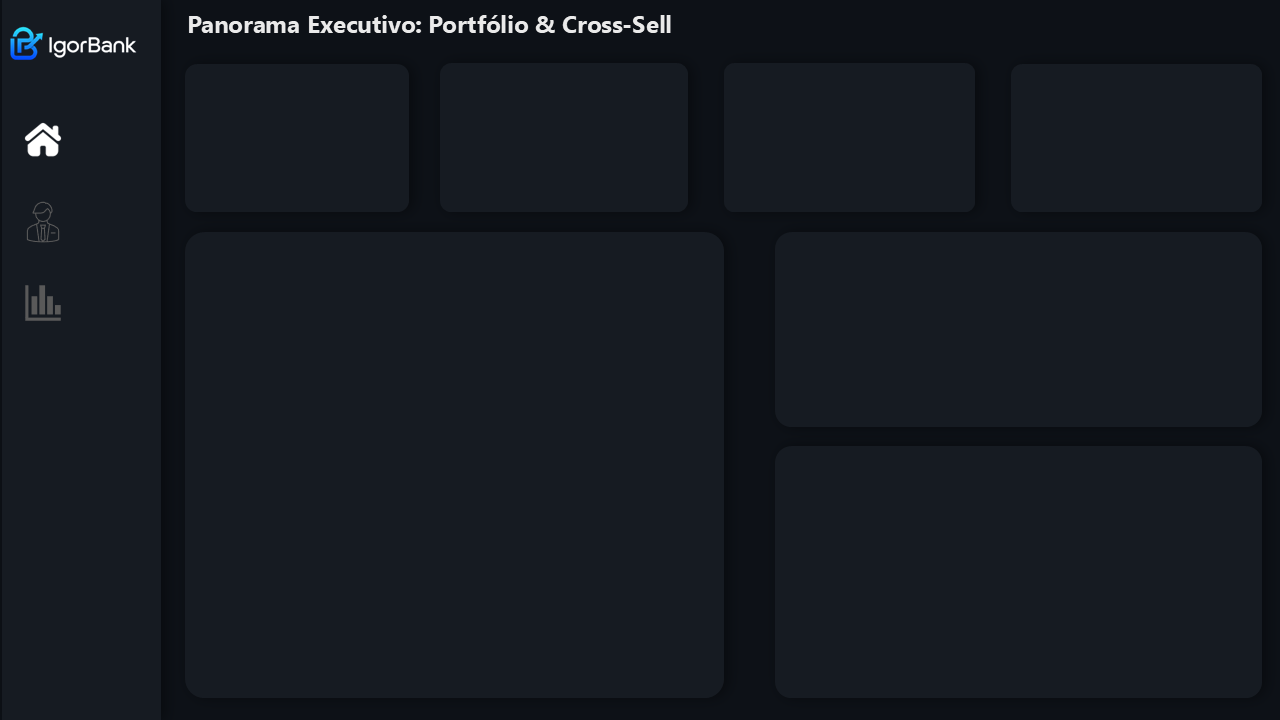

The page's visual inventory and layout, read from the dashboard file:
{"tool":"powerbi","page":{"name":"Inicio","canvas":[1280,720],"ordinal":0},"visuals":[{"type":"card","title":"Total Clientes","fields":{"Values":["Base_CrossSell_Bancario.Total Clientes"]},"box":[188.6,76.2,216.7,121.4],"z":0},{"type":"card","title":"Renda Média","fields":{"Values":["Base_CrossSell_Bancario.Renda Média"]},"box":[725.3,76.2,249.8,121.4],"z":1000},{"type":"card","title":"Taxa Conversão","fields":{"Values":["Base_CrossSell_Bancario.Taxa Conversão"]},"box":[451.4,76.2,220.7,121.4],"z":2000},{"type":"card","title":"Gasto Médio Cartão","fields":{"Values":["Base_CrossSell_Bancario.Gasto Médio Cartão"]},"box":[1008.2,76.2,255.8,121.4],"z":3000},{"type":"lineClusteredColumnComboChart","title":"Volume de Clientes por Faixa de Renda","fields":{"Category":["Base_CrossSell_Bancario.Segmento_Renda"],"Y":["Base_CrossSell_Bancario.Total Clientes"]},"box":[188.7,246.1,527.2,439.6],"z":4000},{"type":"donutChart","title":"Perfil de Gasto Mensal","fields":{"Category":["Base_CrossSell_Bancario.Perfil_Gasto"],"Y":["Base_CrossSell_Bancario.Total Clientes"]},"box":[781,246.1,475.6,180.9],"z":5000},{"type":"lineChart","title":"Comportamento de Gasto X Idade","fields":{"Y":["Base_CrossSell_Bancario.Gasto Médio Cartão"],"Category":["Base_CrossSell_Bancario.Idade"]},"box":[781,459.1,475.6,234.4],"z":6000},{"type":"actionButton","box":[9,106.3,72.2,69.2],"z":6001},{"type":"actionButton","box":[9,184.6,72.2,63.2],"z":6002},{"type":"actionButton","box":[9.2,263.1,71.8,66],"z":6003}]}

Visuals, with their boxes on the page's 1280x720 design canvas (x1, y1, x2, y2). These are canvas units, not pixel positions in the 1280x720 screenshot, which may show the page scaled, cropped or inside an application window:
"Total Clientes" card: (189, 76, 405, 198)
"Renda Média" card: (725, 76, 975, 198)
"Taxa Conversão" card: (451, 76, 672, 198)
"Gasto Médio Cartão" card: (1008, 76, 1264, 198)
"Volume de Clientes por Faixa de Renda" lineClusteredColumnComboChart: (189, 246, 716, 686)
"Perfil de Gasto Mensal" donutChart: (781, 246, 1257, 427)
"Comportamento de Gasto X Idade" lineChart: (781, 459, 1257, 694)
actionButton: (9, 106, 81, 176)
actionButton: (9, 185, 81, 248)
actionButton: (9, 263, 81, 329)
